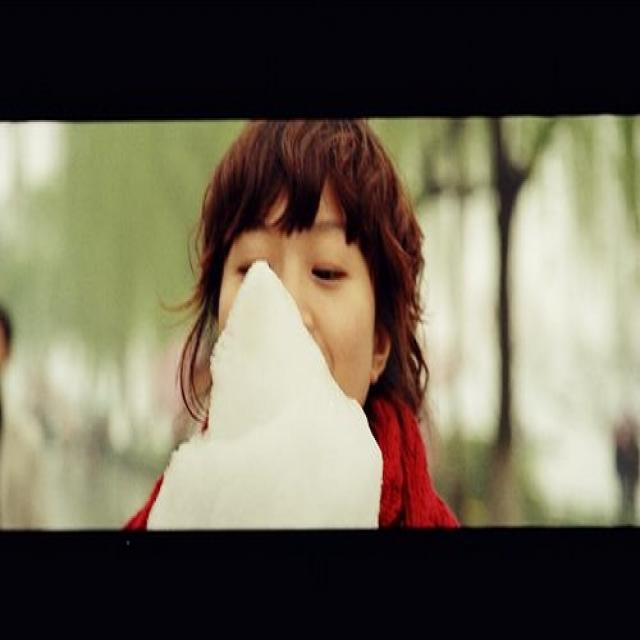nomask: (211, 168, 375, 419)
